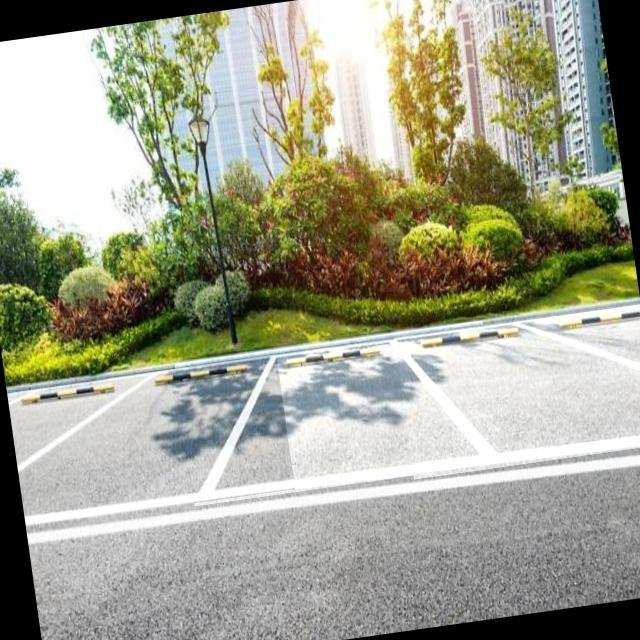empty: (195, 333, 503, 503), (17, 355, 277, 526), (395, 320, 640, 464)
